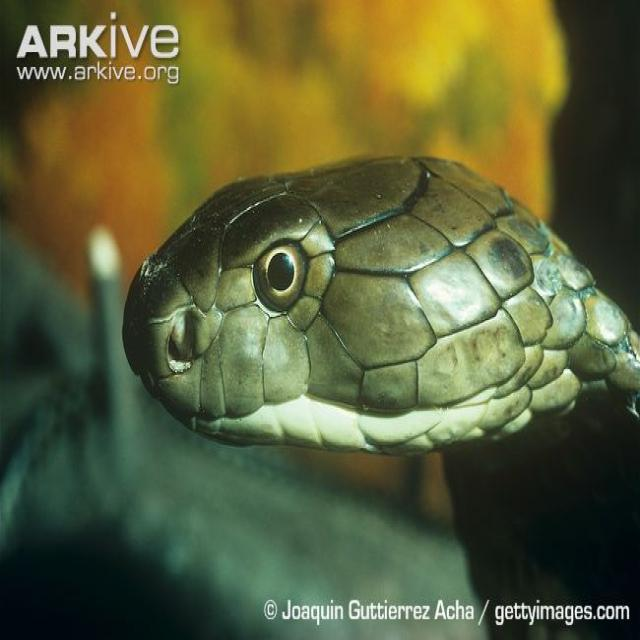Snake: (120, 150, 639, 457)
